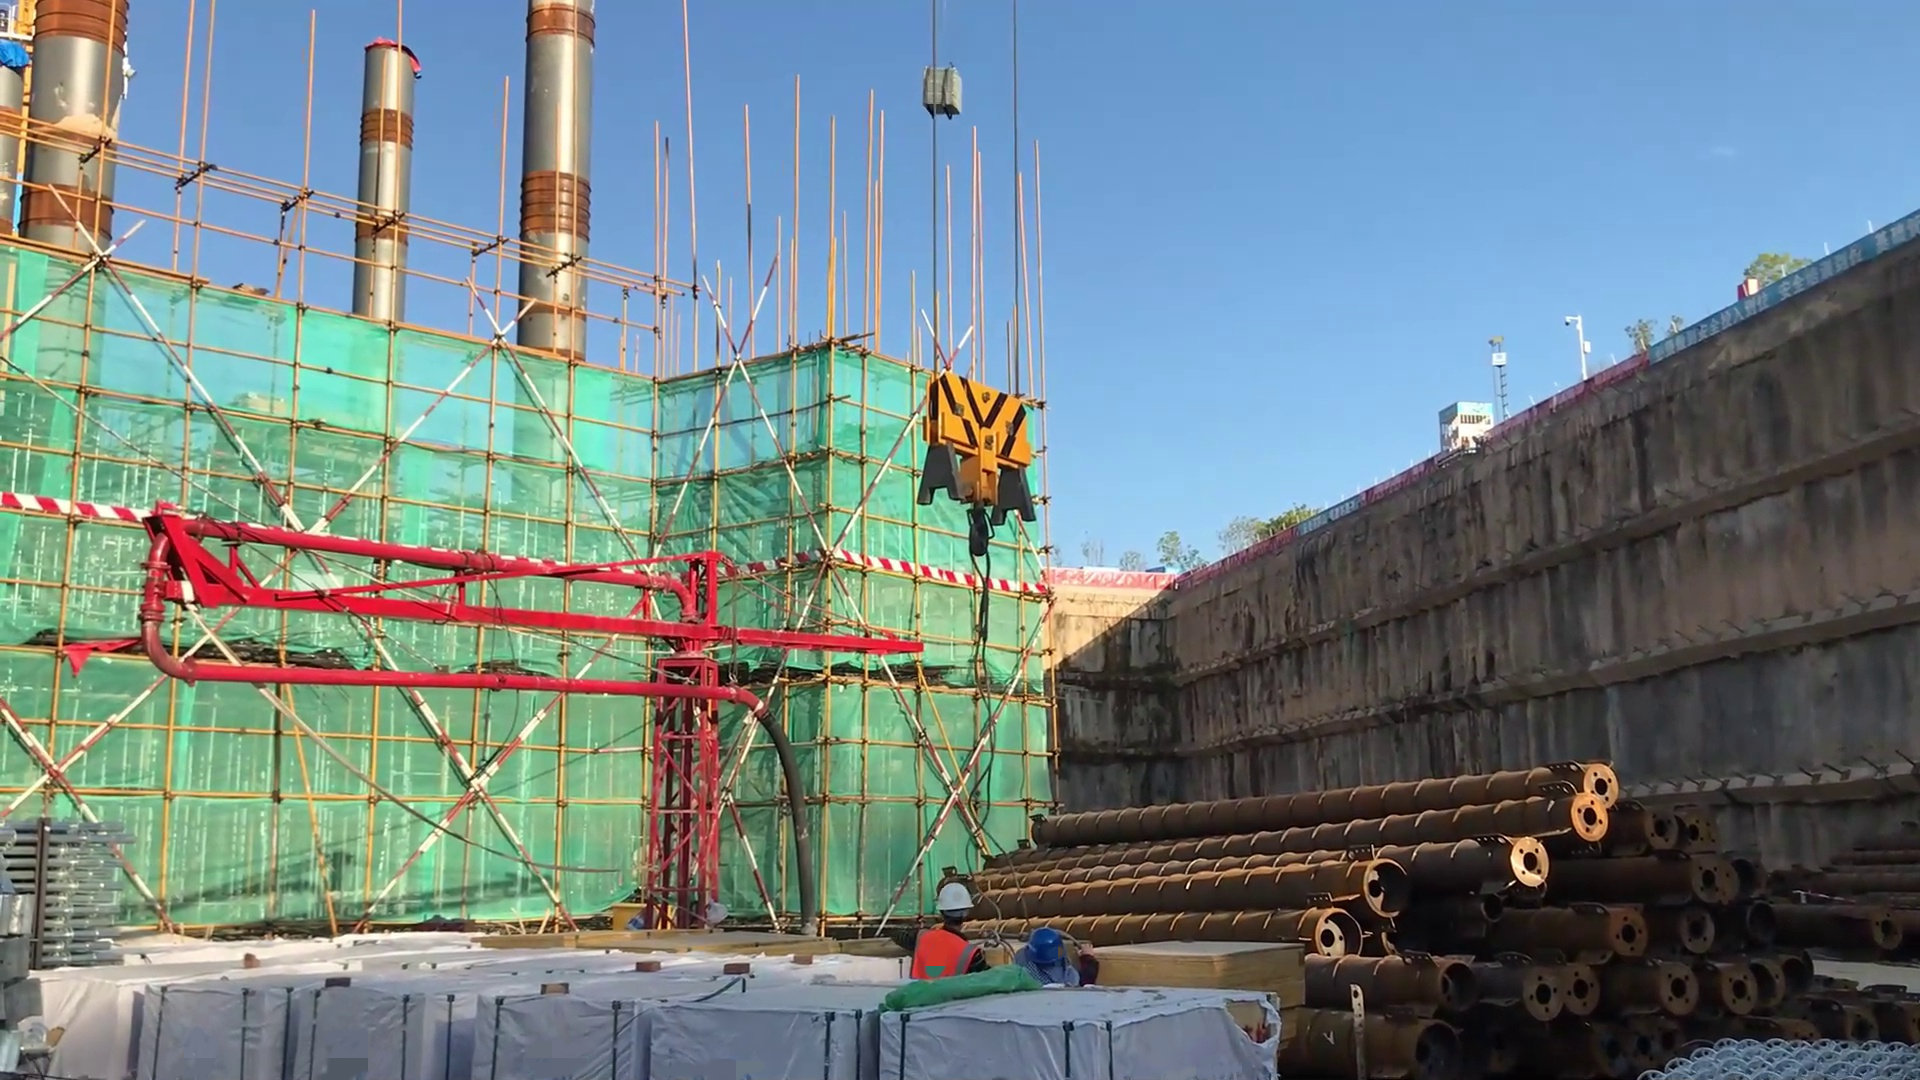board: (1093, 940, 1304, 1008)
ebox: (609, 901, 673, 937)
helmet: (1011, 920, 1079, 991), (923, 873, 977, 948)
hook: (912, 356, 1054, 566)
person: (903, 874, 986, 1000), (1007, 918, 1111, 1006)
scaffold: (4, 814, 140, 977)
slogan: (1634, 214, 1920, 366), (1297, 492, 1365, 541)
vest: (909, 921, 983, 991)
